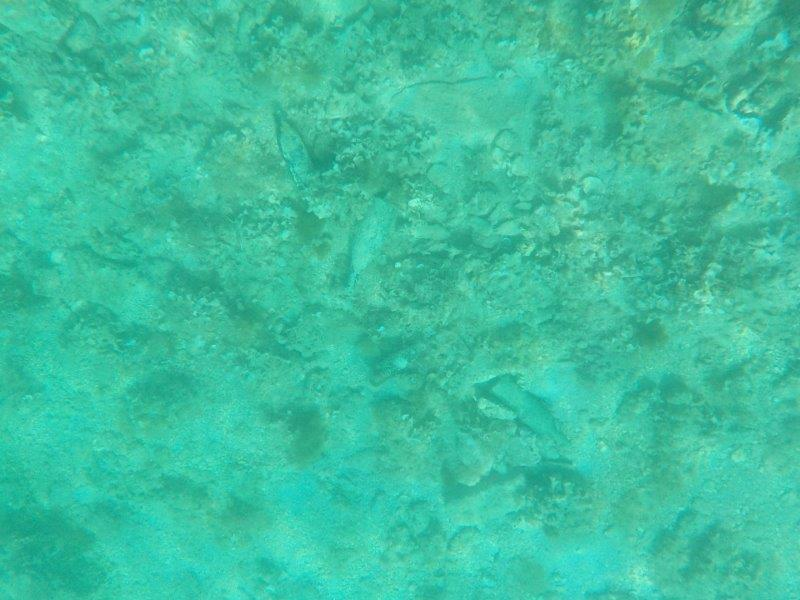bottle: (487, 369, 571, 450), (339, 192, 393, 302), (273, 106, 321, 189)
